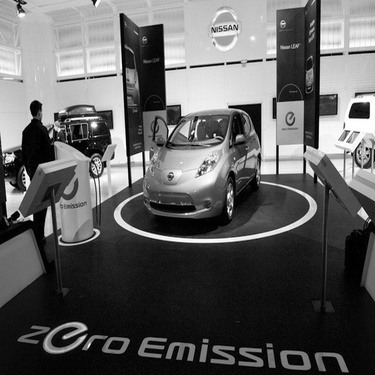car: (131, 104, 268, 231), (1, 100, 115, 190), (340, 92, 369, 168)
